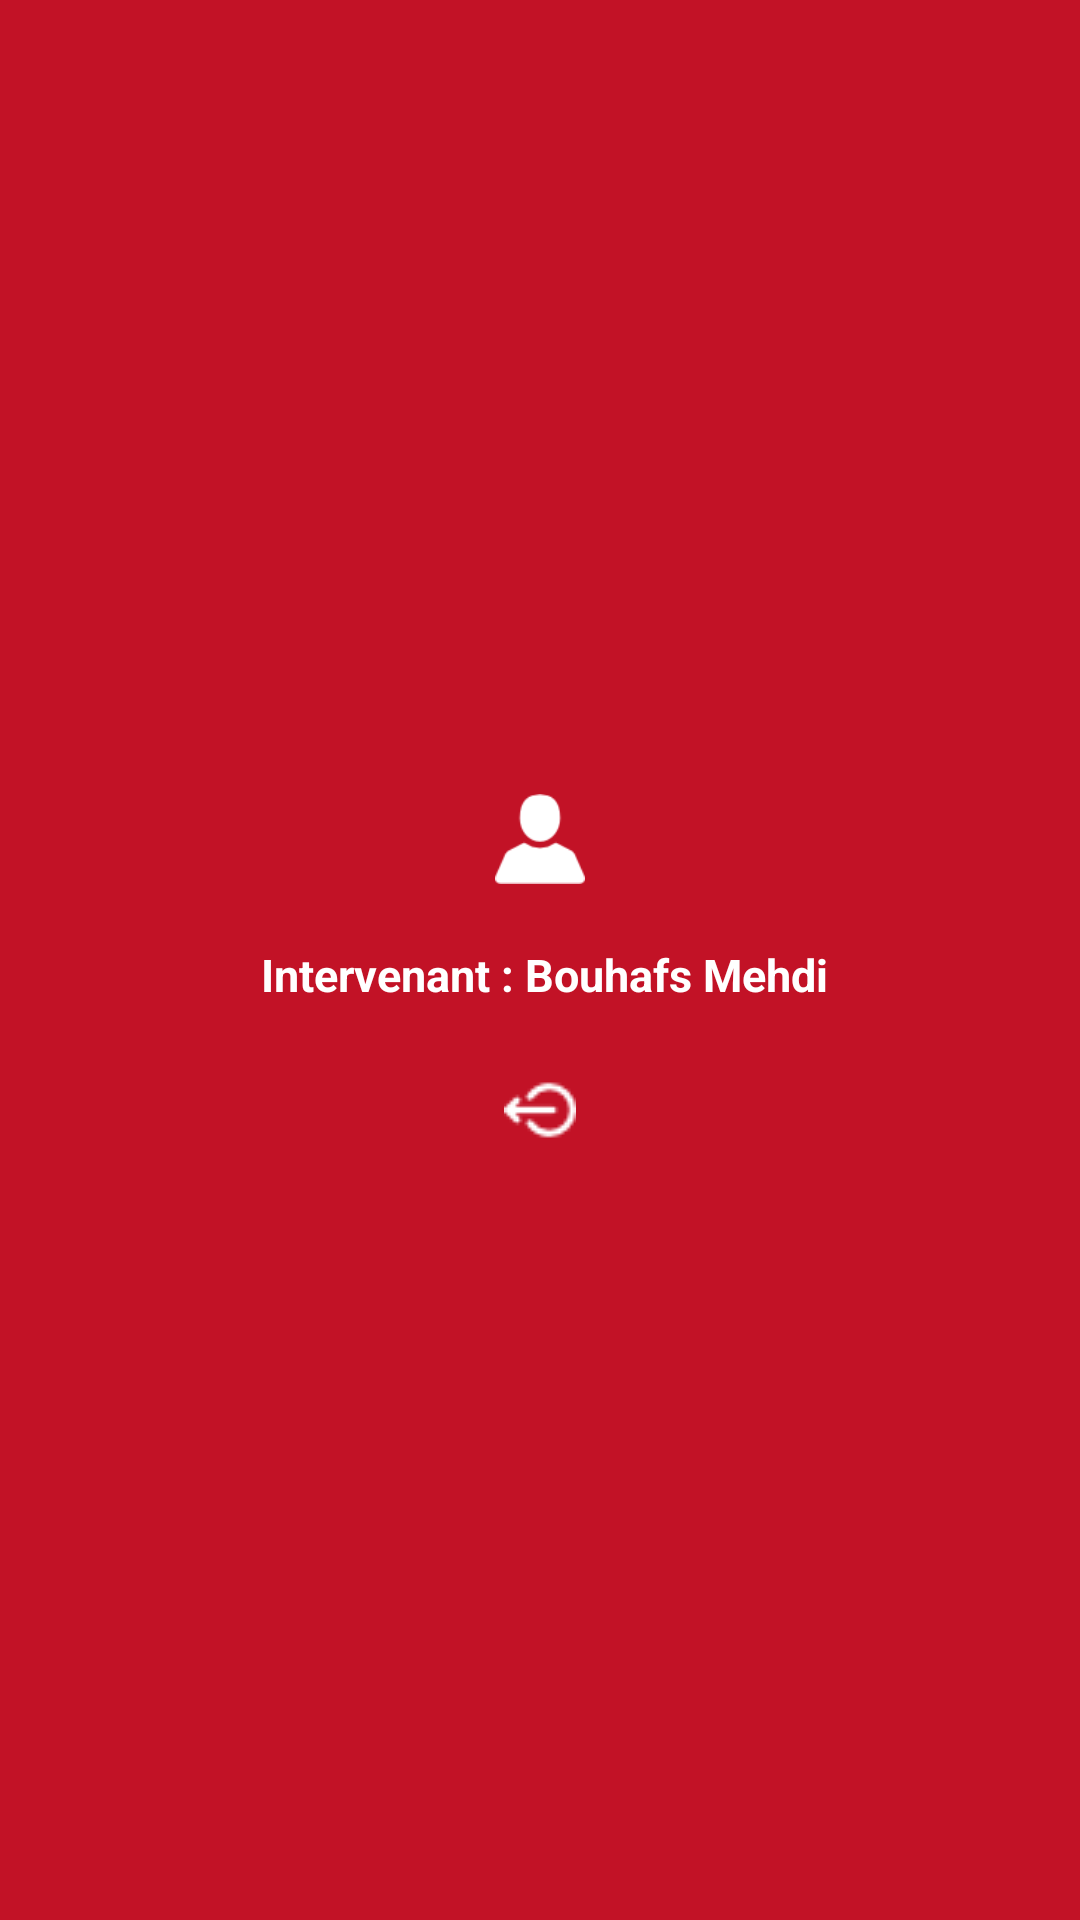

Where to tap for icons on this 1080px x 1920px app screen, as (x=x, y=y):
user: (x=540, y=839)
